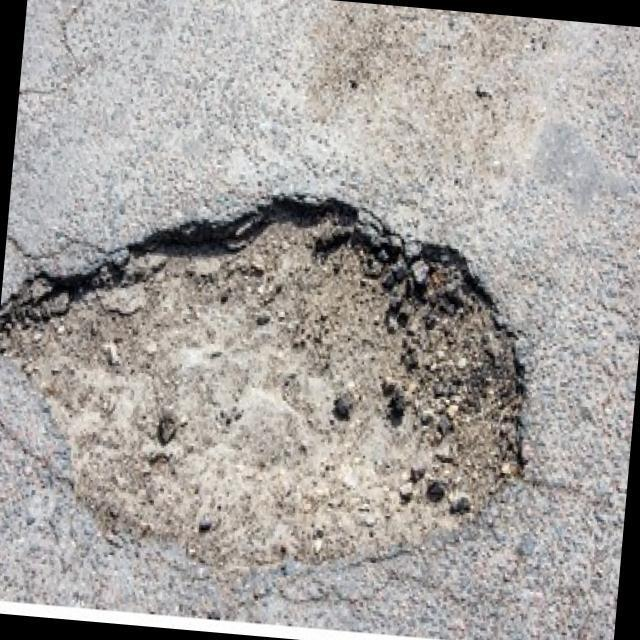pothole: (0, 164, 547, 592)
